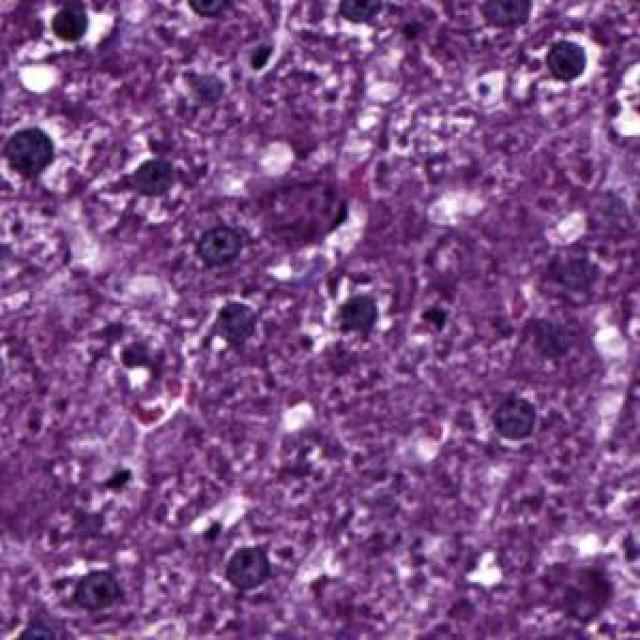inflammation: (0, 116, 60, 182), (47, 0, 96, 49), (130, 154, 178, 193)
